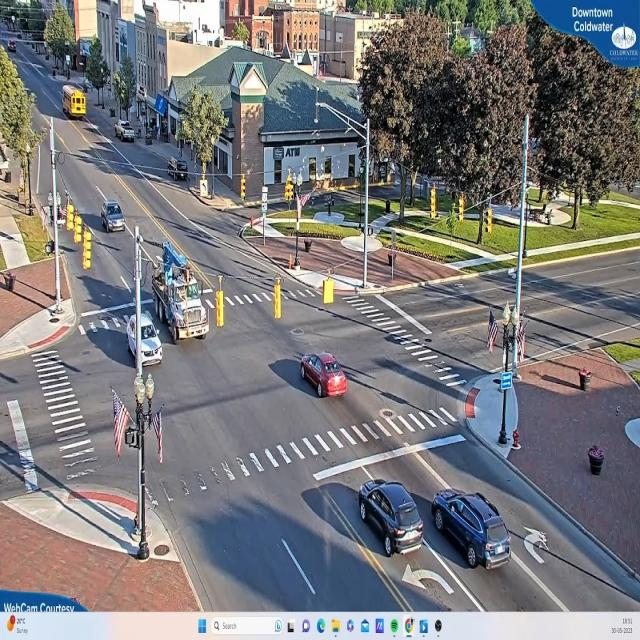car: (430, 491, 512, 572), (358, 480, 427, 556), (299, 352, 346, 400), (125, 311, 163, 368), (101, 200, 128, 233), (117, 122, 137, 145)
truck: (151, 240, 219, 356)
